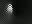person: (8, 4, 15, 17)
